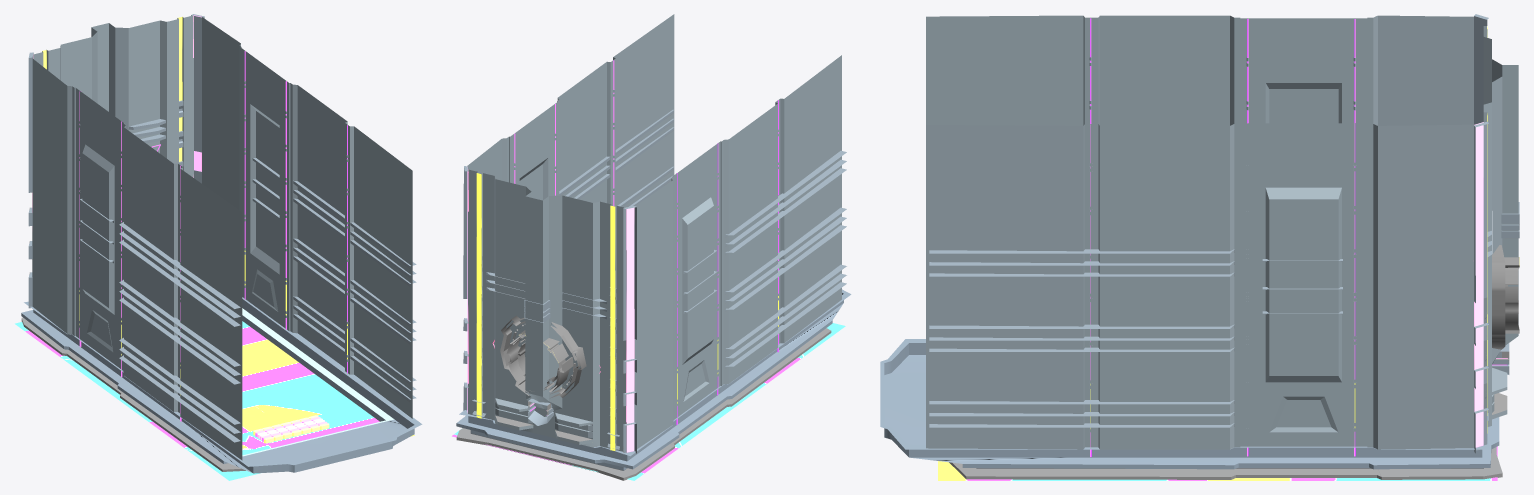
The model's file is remake1 (1).fbx.
3 views of the same model, side by side, from view 1: azimuth 30°, elevation 25°; view 2: azimuth 150°, elevation 25°; view 3: azimuth 270°, elevation 25° (orthographic). The views are drawn at different scales.
Visible parts, largest first — view 1: stena, decor, floor, decor.004, stena.003, palki, stena.001; view 2: stena, decor, stena.001, decor.001, decor.004, floor; view 3: stena, decor, stena.001, decor.001, floor, decor.004.
Part boxes in pixels (<box>): stena: <box>21,15,422,473</box>; decor: <box>28,14,416,442</box>; floor: <box>15,321,414,480</box>; decor.004: <box>79,51,347,421</box>; stena.003: <box>242,308,394,456</box>; palki: <box>253,415,329,443</box>; stena.001: <box>42,15,201,171</box>; stena: <box>456,14,851,480</box>; decor: <box>463,109,846,454</box>; stena.001: <box>467,167,634,452</box>; decor.001: <box>500,315,586,398</box>; decor.004: <box>514,60,778,424</box>; floor: <box>452,323,845,480</box>; stena: <box>880,15,1518,479</box>; decor: <box>929,14,1519,453</box>; stena.001: <box>1474,28,1487,447</box>; decor.001: <box>1492,245,1519,349</box>; floor: <box>938,446,1497,480</box>; decor.004: <box>1090,18,1355,456</box>.
Bounding box in the file's own units: 70.57 × 98.37 × 161.
